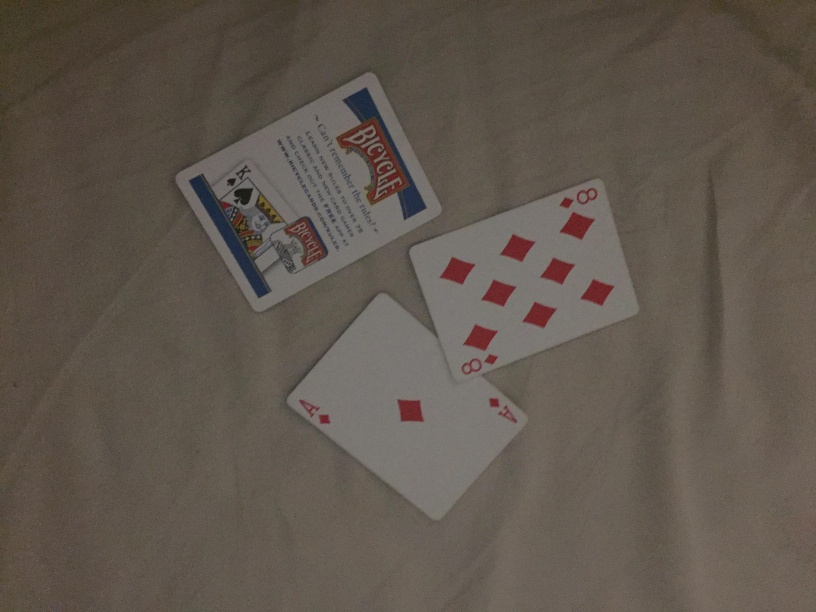8: (400, 179, 641, 385)
ace: (282, 287, 530, 523)
